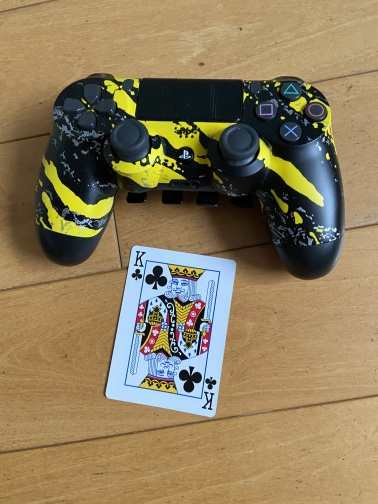king: (103, 243, 238, 419)
